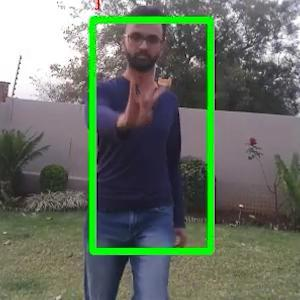takeoff-hand: (124, 70, 162, 129)
